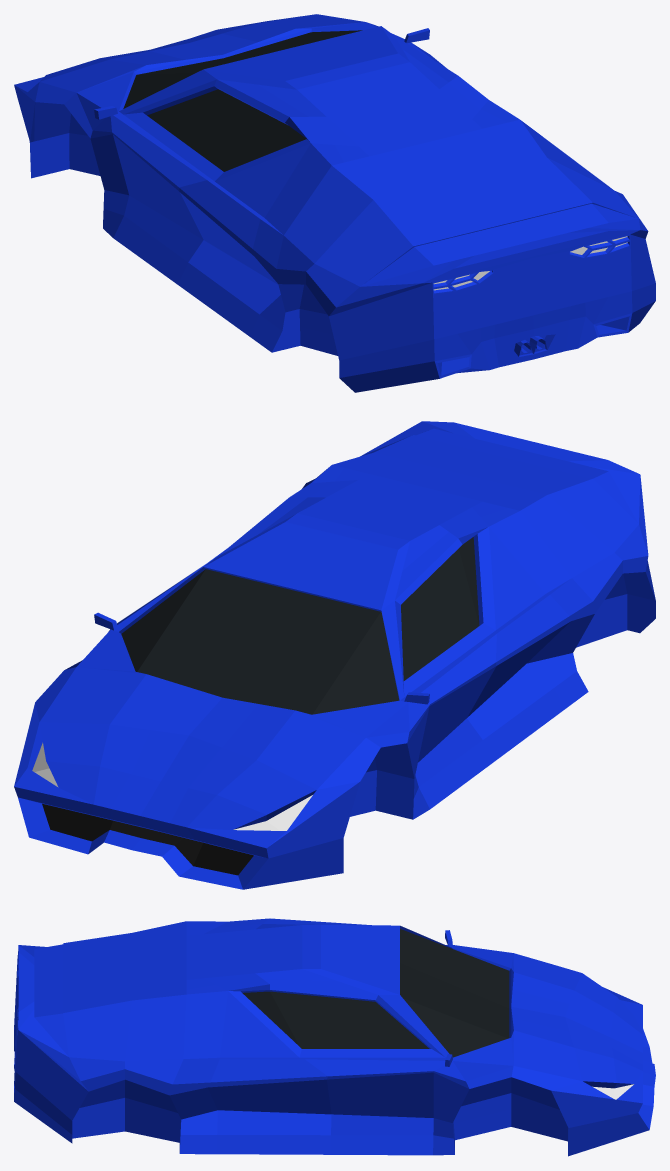
File: LambAsset.fbx
The picture shows the model from 3 angles, top to bottom: view 1: azimuth 30°, elevation 25°; view 2: azimuth 150°, elevation 25°; view 3: azimuth 270°, elevation 25°; orthographic projection. The views are drawn at different scales.
Visible parts, largest first — view 1: Cube; view 2: Cube; view 3: Cube.
Boxes of the visible parts, <box> form: Cube: <box>14,14,655,392</box>; Cube: <box>14,421,655,889</box>; Cube: <box>14,918,655,1156</box>.
Bounding box in the file's own units: 207 × 111 × 432.
